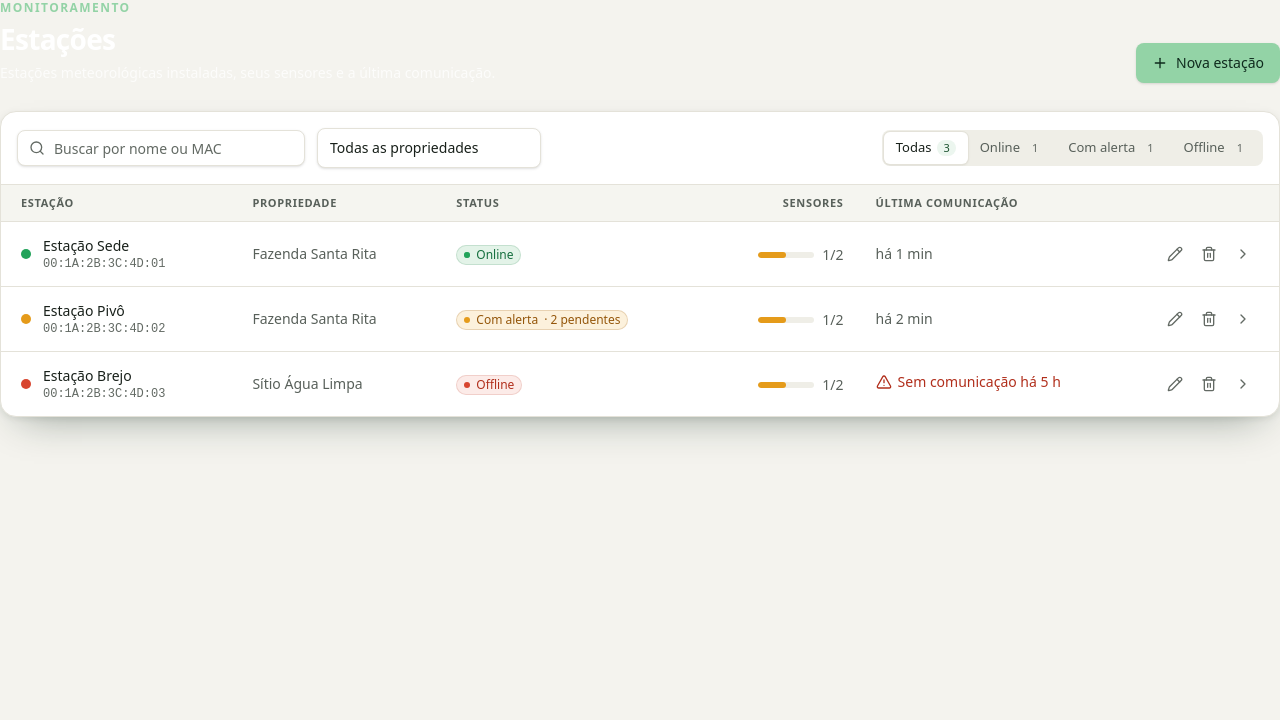
Test case: StationsPage › mostra o erro do serviço ao salvar
Click the button named "Editar Estação Sede" at (1175, 254), box [1159,238,1191,270]
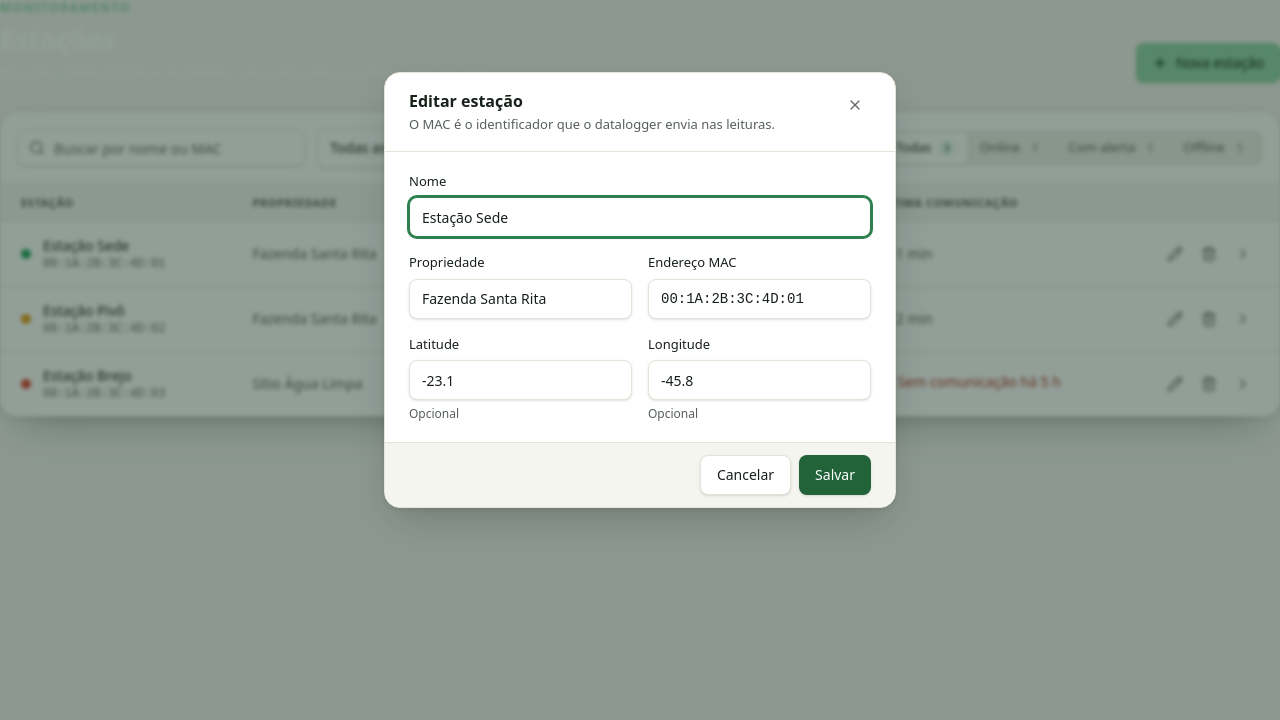
Now the field labelled "Nome" holds "Estação Sede", box [409,197,871,237]
Click the button "Salvar" at (835, 475), box [799,455,871,495]
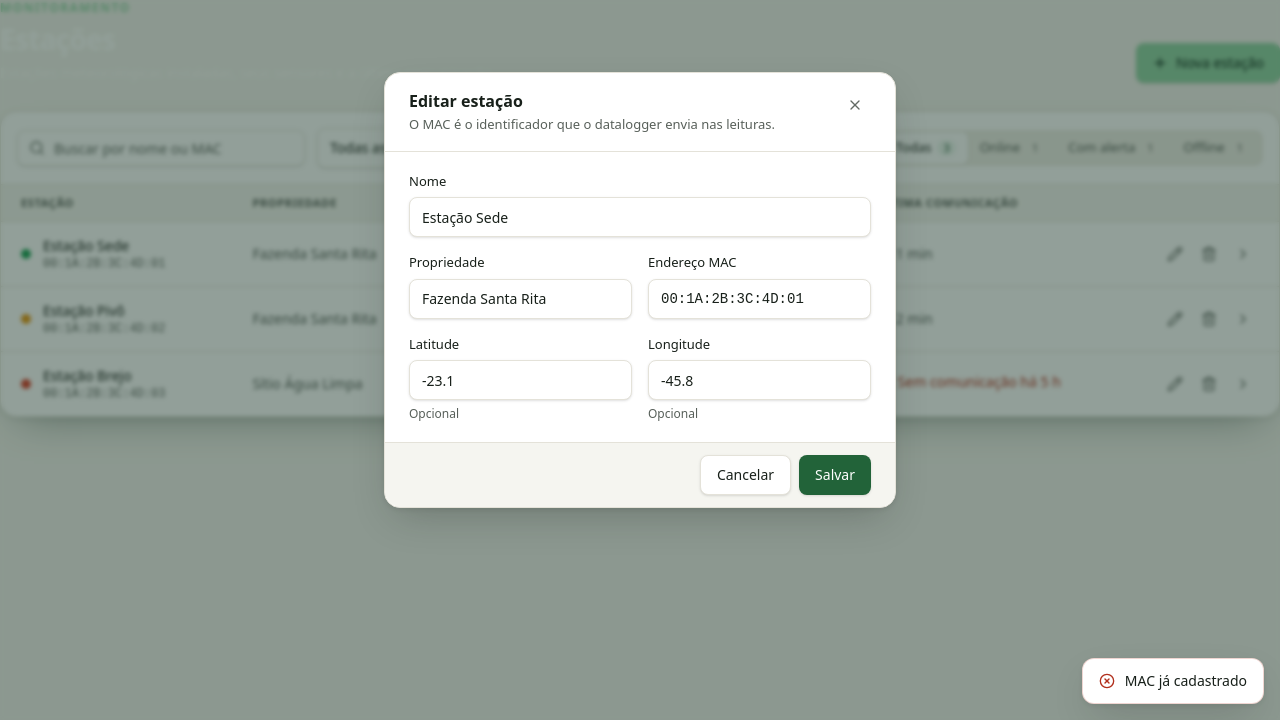
Now the dialog is shown, box [384,72,896,508]
Now the text "MAC já cadastrado" is shown, box [1082,658,1264,704]
